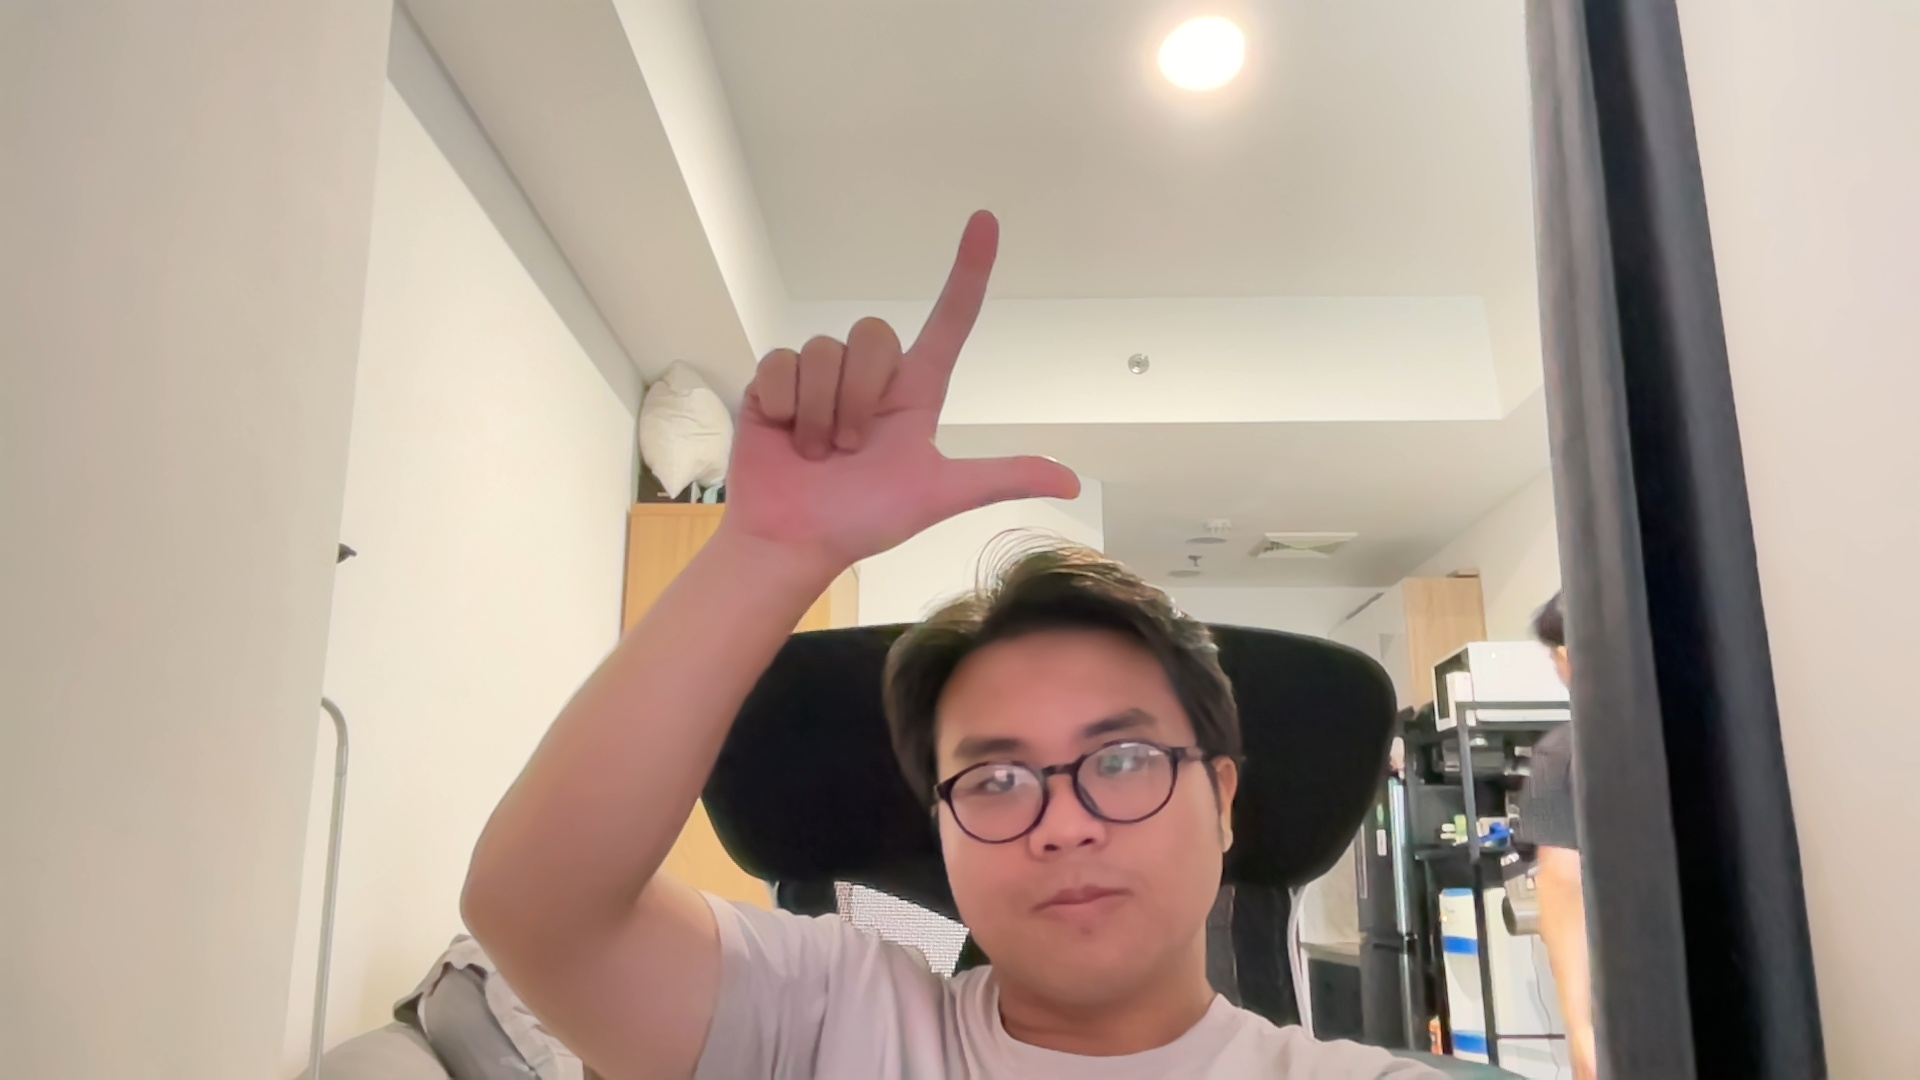L: (702, 190, 1116, 537)
